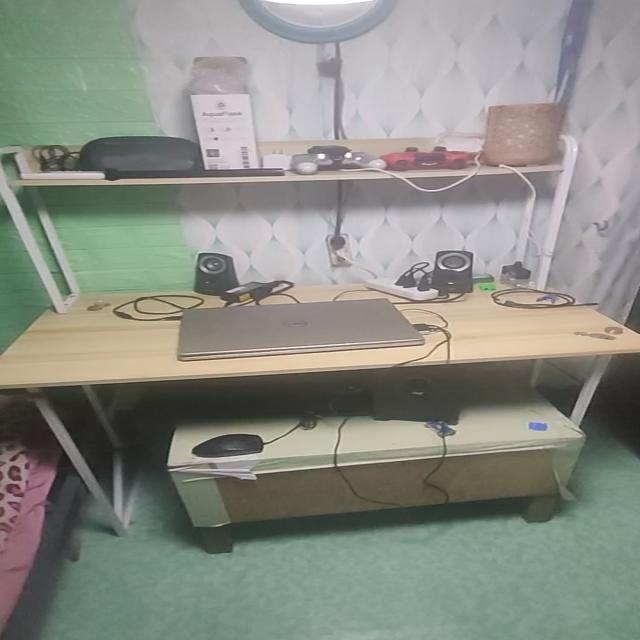table: (0, 288, 638, 531)
